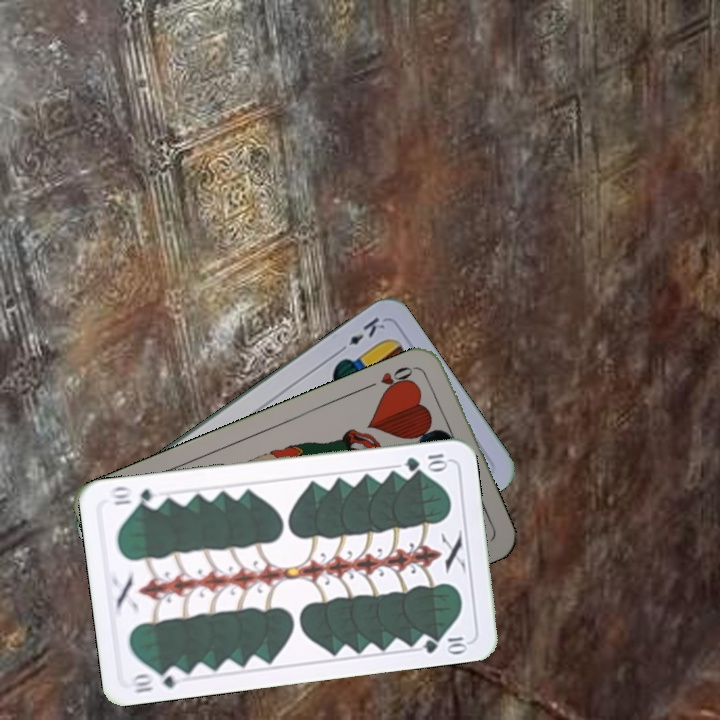EK: (334, 313, 388, 356)
G10: (126, 663, 186, 696), (401, 449, 451, 474)
HO: (363, 362, 420, 397)
